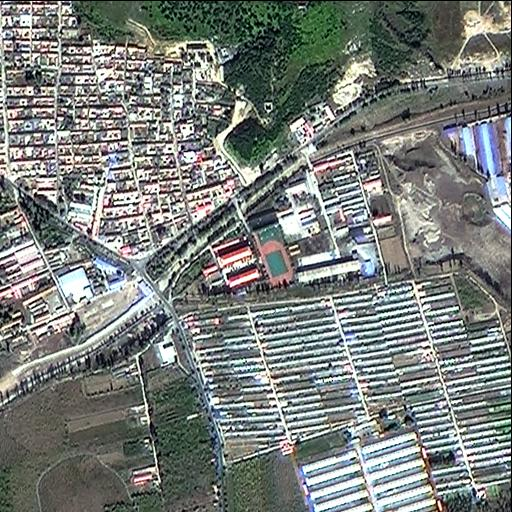school: (200, 208, 297, 295)
